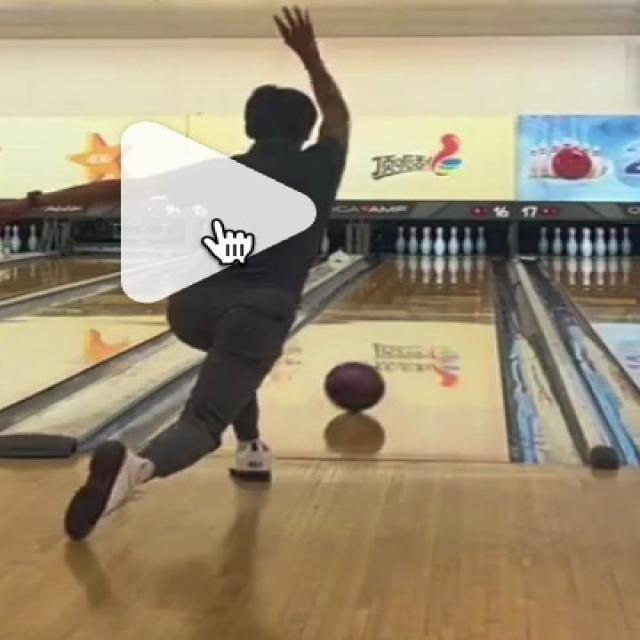alley: (261, 255, 507, 460)
balls: (325, 362, 382, 410)
bottle: (396, 223, 485, 256)
